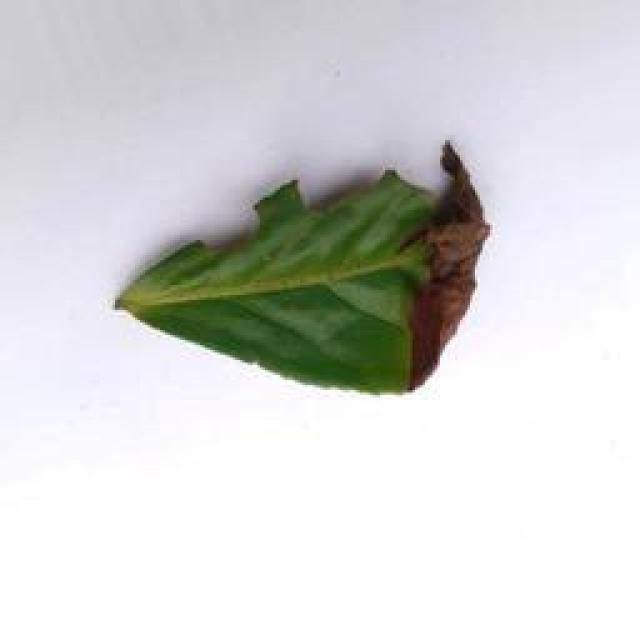Brown Blight: (106, 147, 524, 397)
